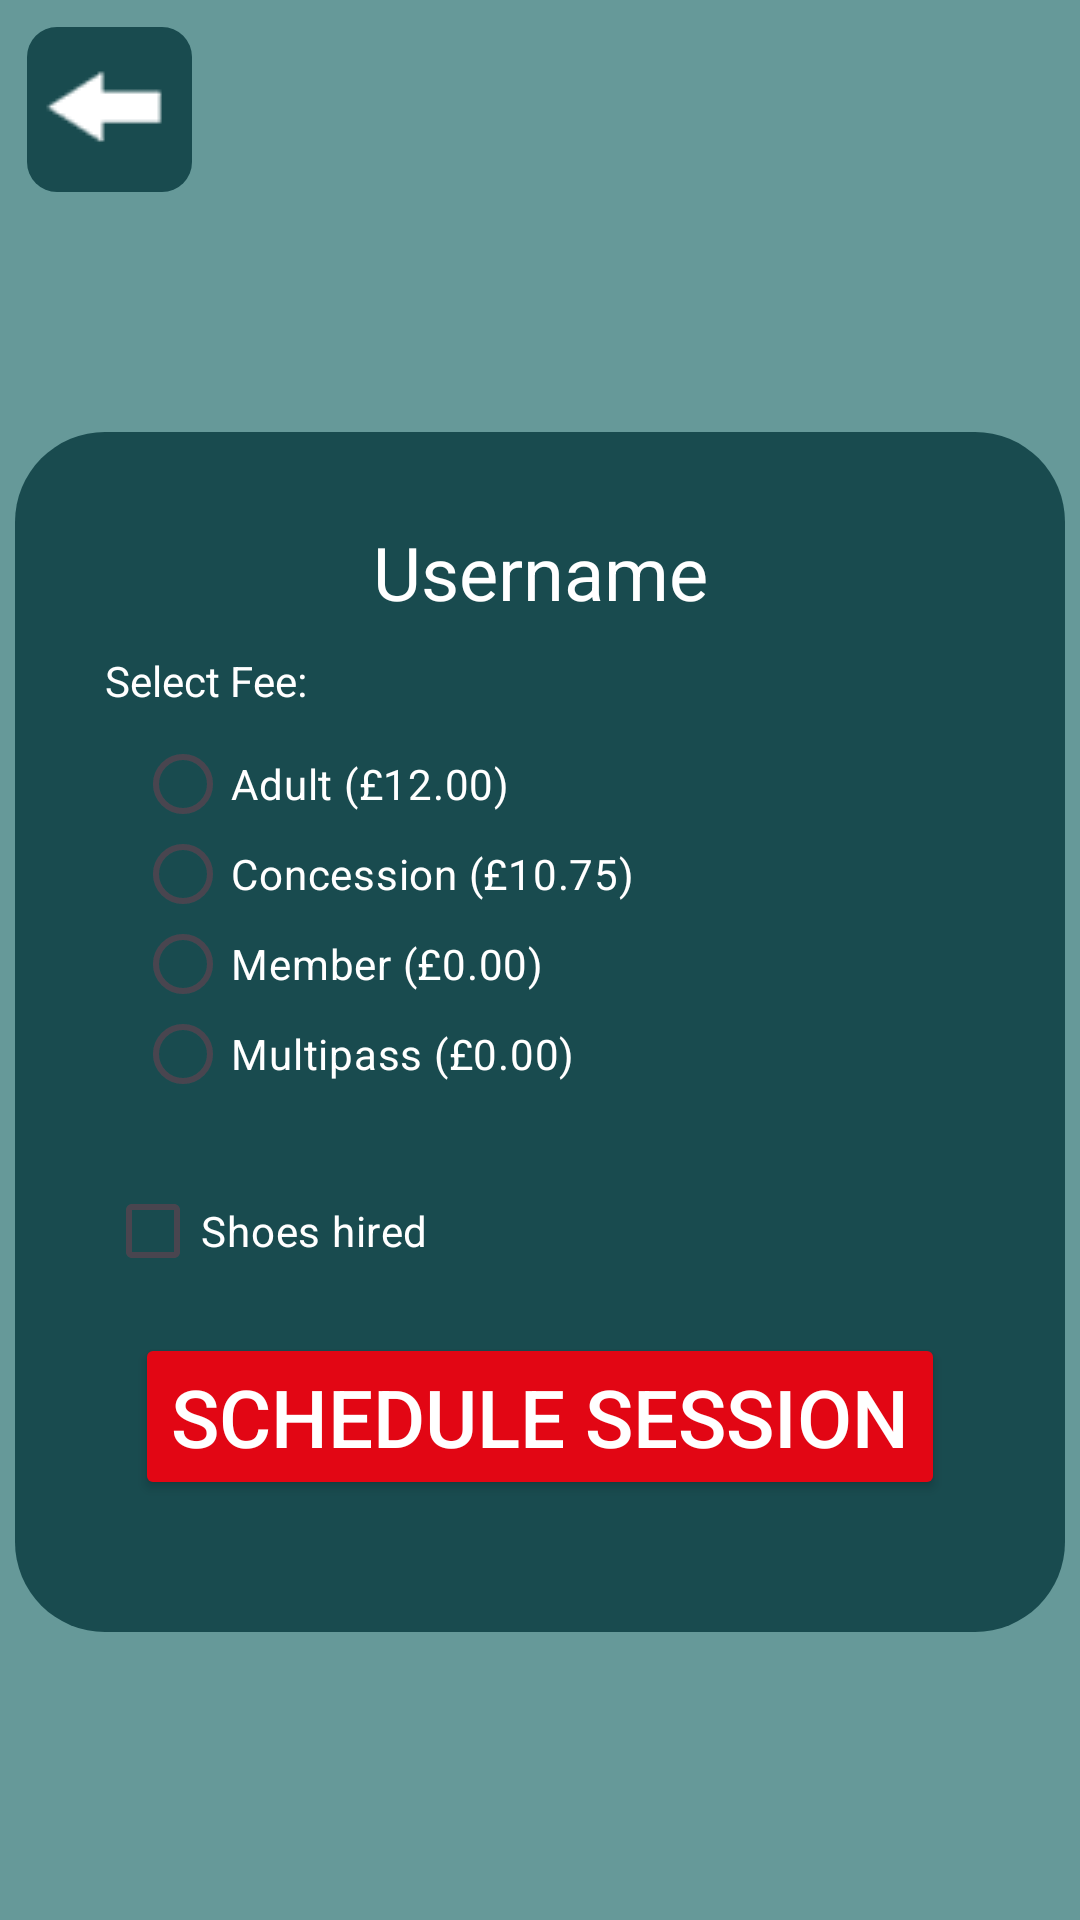

Named icons in this screenshot (1080x1920) and their centers, [x,y]:
go back: [109,109]
